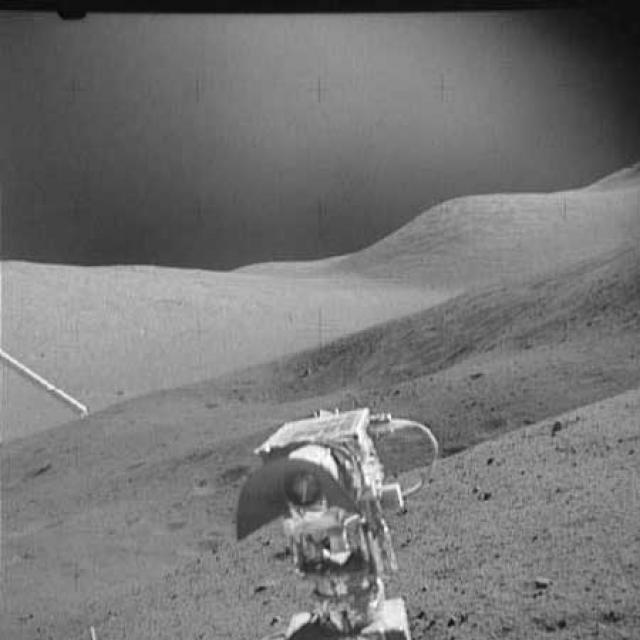artifact: (252, 402, 449, 638), (0, 343, 91, 421)
crater: (199, 330, 471, 396), (190, 463, 249, 492)
